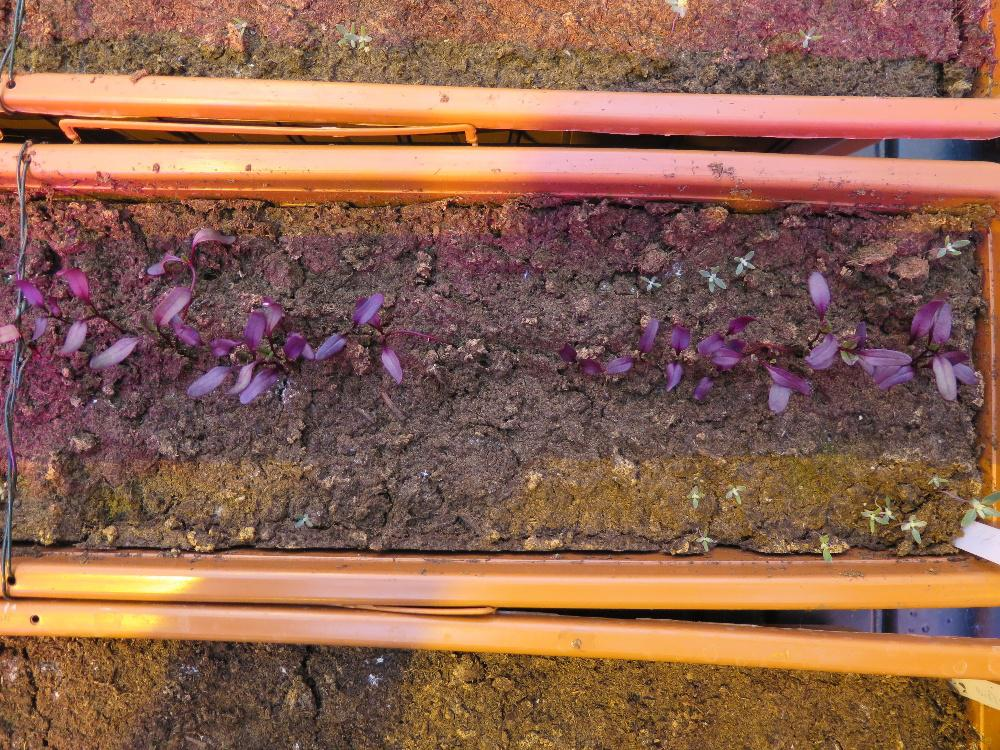weed: (935, 232, 969, 258), (697, 263, 726, 293), (731, 248, 755, 275), (796, 24, 823, 48), (723, 479, 745, 507), (684, 483, 705, 508), (694, 526, 713, 551), (638, 273, 660, 292), (818, 532, 831, 564), (228, 13, 246, 36), (925, 472, 948, 489), (293, 511, 313, 527)
